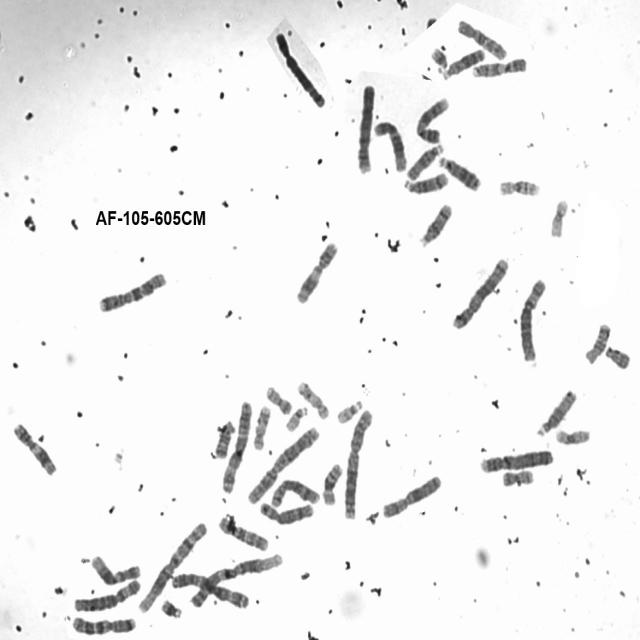A1: (135, 518, 210, 614), (186, 548, 286, 609)
A2: (245, 422, 323, 506), (340, 405, 374, 521)
A3: (168, 566, 251, 610), (219, 397, 254, 495)
B4: (354, 78, 378, 175), (478, 445, 556, 474)
B5: (449, 253, 511, 332), (273, 27, 327, 110)
C10: (454, 16, 509, 62), (216, 513, 270, 553)
C11: (293, 237, 340, 306), (10, 418, 59, 478)
C12: (372, 116, 408, 173), (89, 551, 142, 587)
C6: (516, 273, 549, 364), (71, 575, 144, 614)
C7: (96, 268, 169, 315), (68, 612, 138, 636)
C8: (268, 474, 321, 508), (257, 497, 316, 526)
C9: (413, 92, 451, 144), (470, 53, 529, 80)
D13: (435, 151, 483, 193), (438, 44, 487, 81)
D14: (416, 199, 454, 248), (401, 168, 450, 196)
D15: (534, 385, 578, 438), (403, 139, 446, 182)
E16: (320, 460, 344, 508), (496, 175, 542, 198)
E17: (294, 377, 331, 421), (250, 401, 273, 451)
E18: (582, 319, 613, 365), (213, 418, 236, 459)
F19: (547, 194, 571, 238), (553, 424, 593, 447)
F20: (263, 381, 293, 416), (499, 465, 536, 488)
G21: (158, 596, 184, 620), (428, 43, 449, 70)
G22: (334, 396, 364, 425), (282, 403, 309, 433)
X: (379, 470, 443, 520)
Y: (603, 342, 632, 371)
